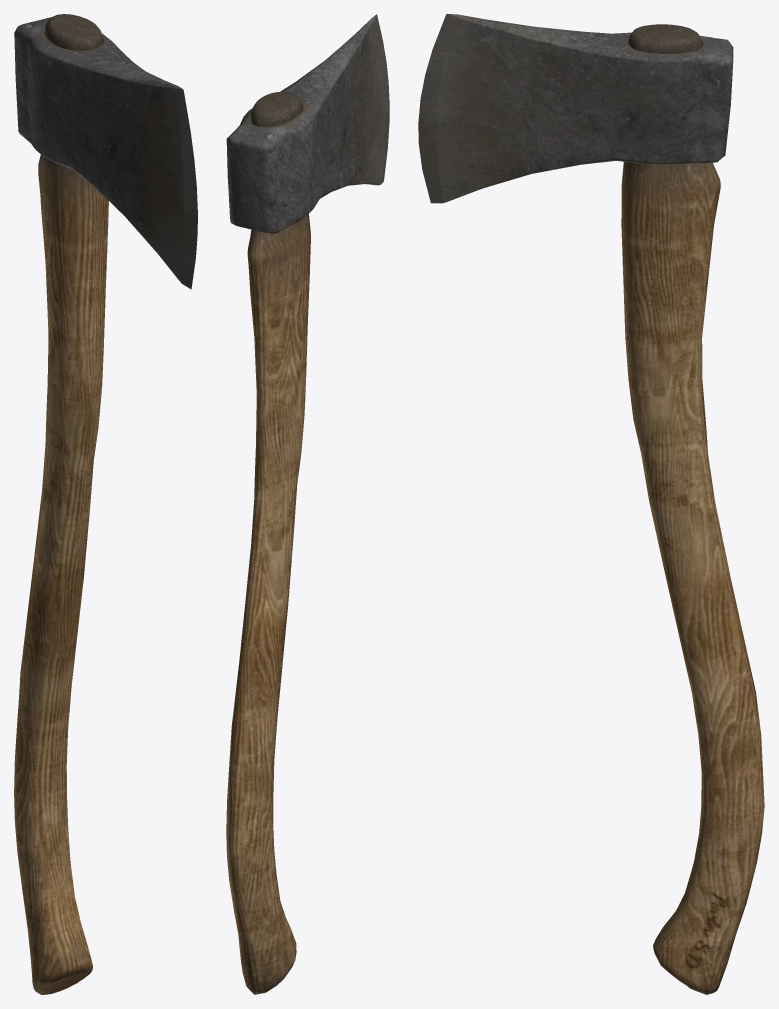
File: wooden_axe_02.glb
The picture shows the model from 3 angles, left to right: view 1: azimuth 30°, elevation 25°; view 2: azimuth 150°, elevation 25°; view 3: azimuth 270°, elevation 25°; orthographic projection. The views are drawn at different scales.
Parts seen in each view (by area): view 1: wooden_axe_02; view 2: wooden_axe_02; view 3: wooden_axe_02.
Part boxes in pixels (bbox=[...]): wooden_axe_02: bbox=[14, 14, 197, 994]; wooden_axe_02: bbox=[226, 14, 389, 994]; wooden_axe_02: bbox=[418, 14, 764, 994].
Bounding box in the file's own units: 0.0509 × 0.7042 × 0.2258.
Materials: 1 (1 with a texture image).
